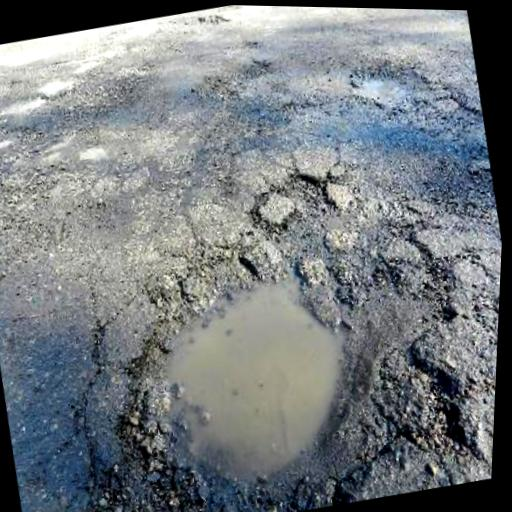pothole: (77, 190, 490, 512), (275, 161, 342, 221)
